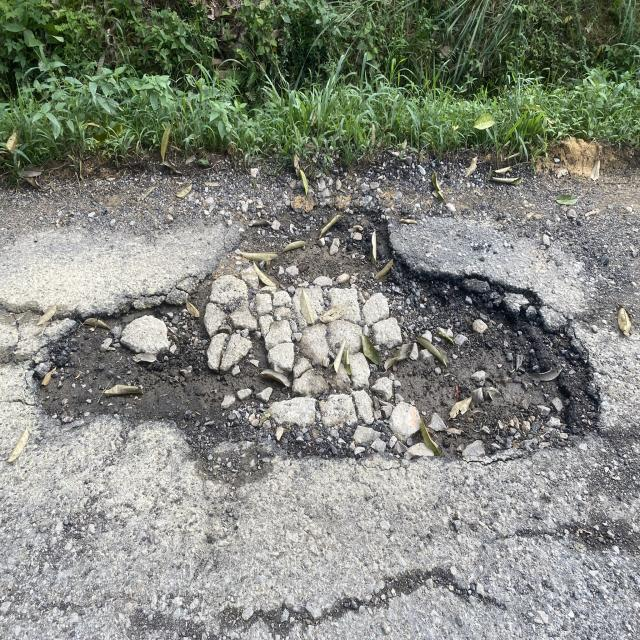pothole: (21, 198, 618, 484)
